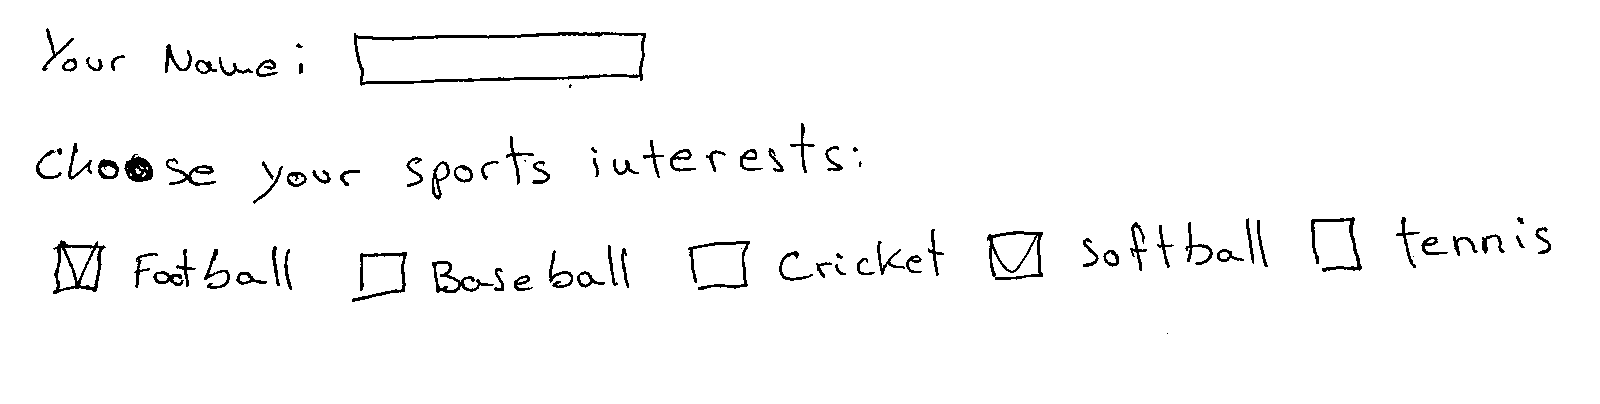Check Box: (976, 205, 1274, 283), (349, 234, 641, 311), (1302, 205, 1567, 287), (45, 234, 304, 307), (682, 225, 953, 293)
Textbox: (345, 27, 657, 89)
